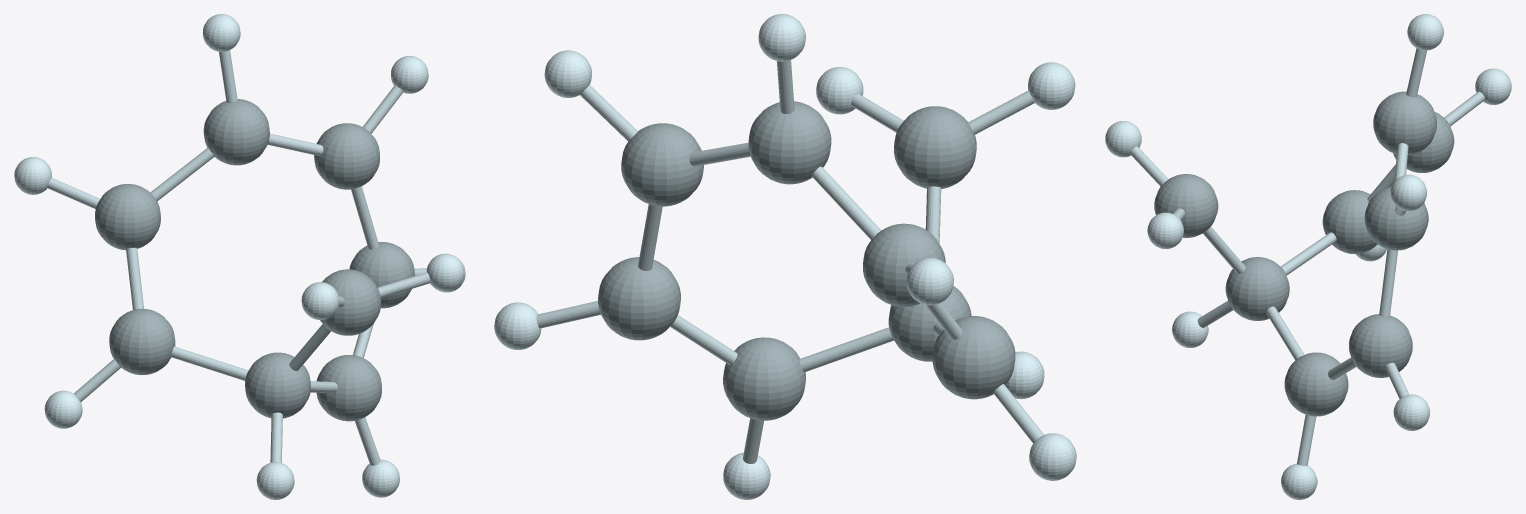
The model's file is irc_step_095.glb.
3 views of the same model, side by side, from view 1: azimuth 30°, elevation 25°; view 2: azimuth 150°, elevation 25°; view 3: azimuth 270°, elevation 25° (orthographic). The views are drawn at different scales.
Visible parts, largest first — view 1: Renderer Node; view 2: Renderer Node; view 3: Renderer Node.
Boxes of the visible parts, left/top/right/bottom form: Renderer Node: left=14, top=14, right=465, bottom=499; Renderer Node: left=494, top=14, right=1076, bottom=499; Renderer Node: left=1105, top=14, right=1511, bottom=499.
Size of the model in its own units: 5.31 by 5.28 by 4.43.
